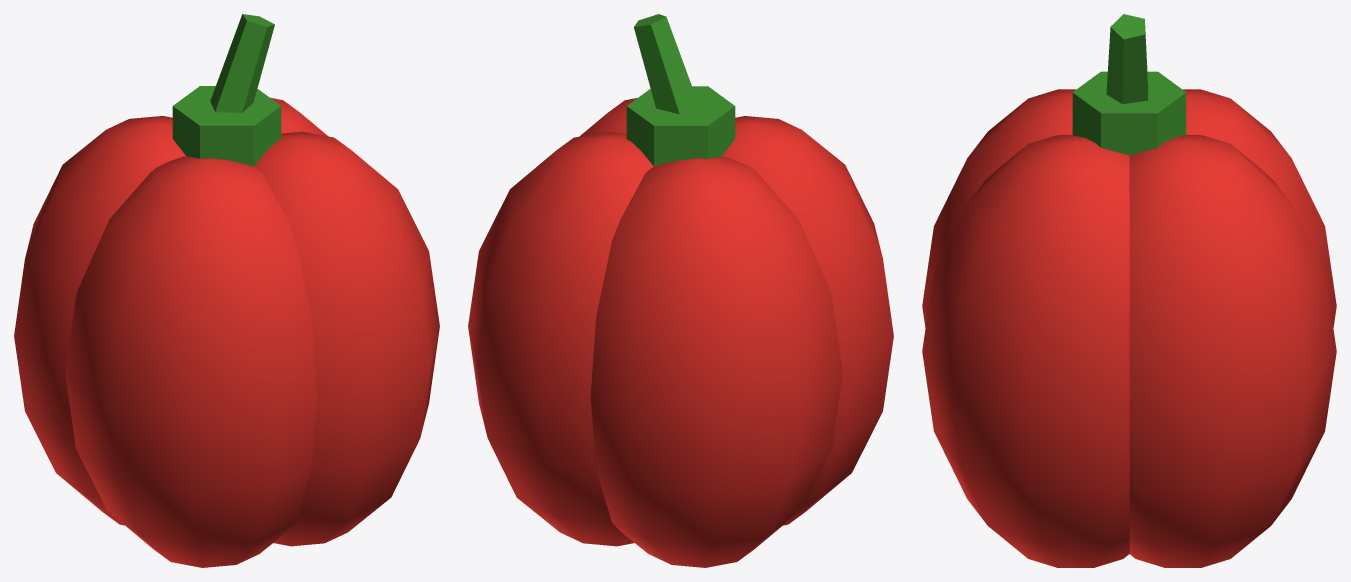
File: Pepper.fbx
3 renders of one model, left to right at view 1: azimuth 30°, elevation 25°; view 2: azimuth 150°, elevation 25°; view 3: azimuth 270°, elevation 25°, orthographic. The views are drawn at different scales.
Parts seen in each view (by area): view 1: Pepper; view 2: Pepper; view 3: Pepper.
Part boxes in pixels (x1,y1,x2,y2): Pepper: (14,14,439,567); Pepper: (468,14,893,567); Pepper: (922,14,1336,567).
Size of the model in its own units: 0.8426 by 1.24 by 0.8743.
Materials: 1 (1 with a texture image).
